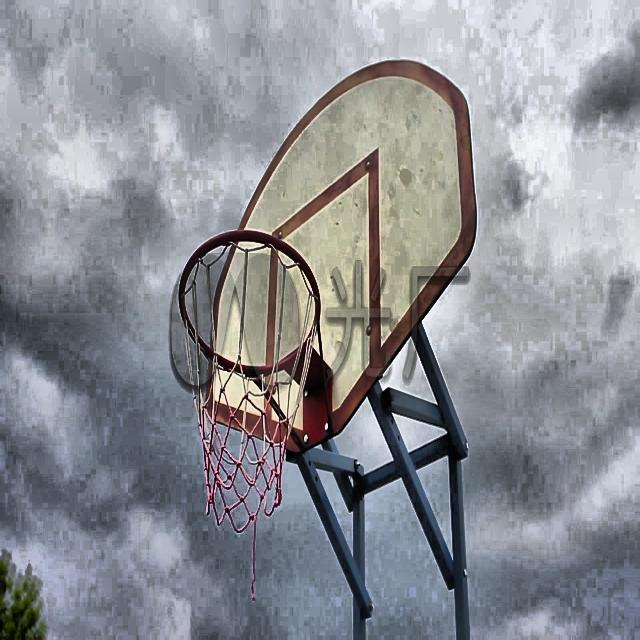rim: (180, 230, 322, 533)
